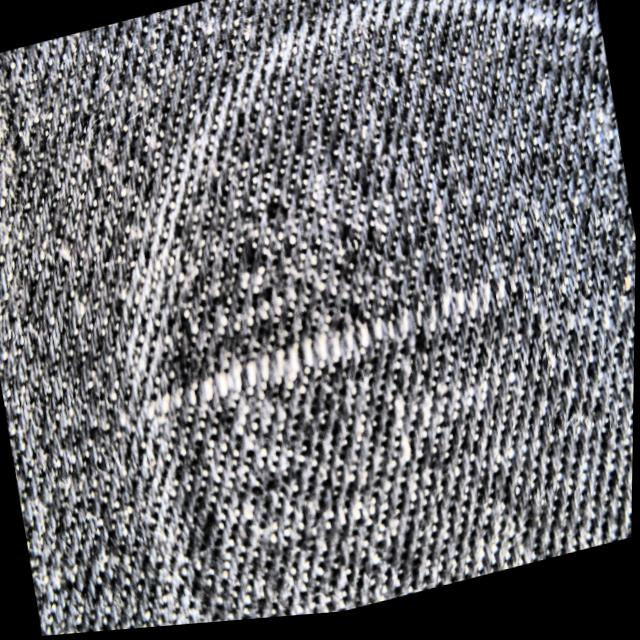Hole: (146, 285, 511, 421)
